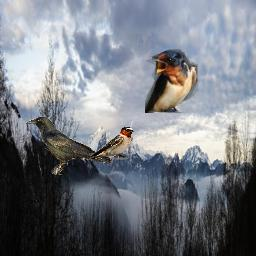Crow: (25, 116, 112, 175)
Swallow: (145, 49, 198, 113), (89, 126, 134, 160)
